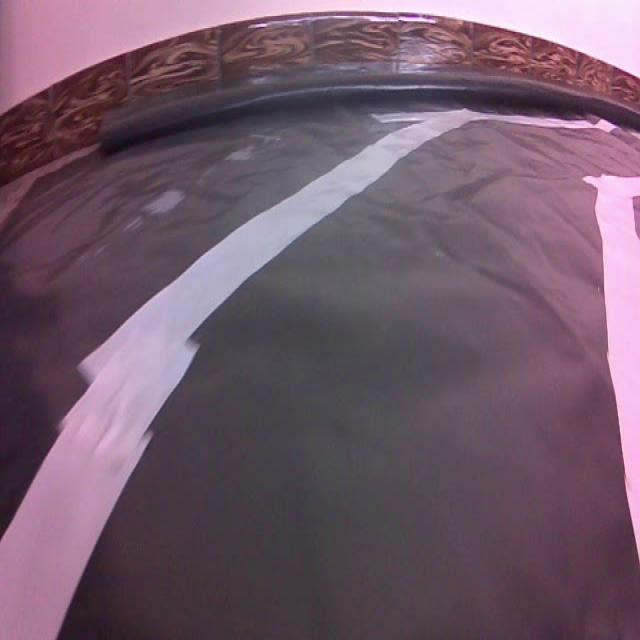LineaCarril: (0, 110, 482, 638), (586, 177, 640, 559)
